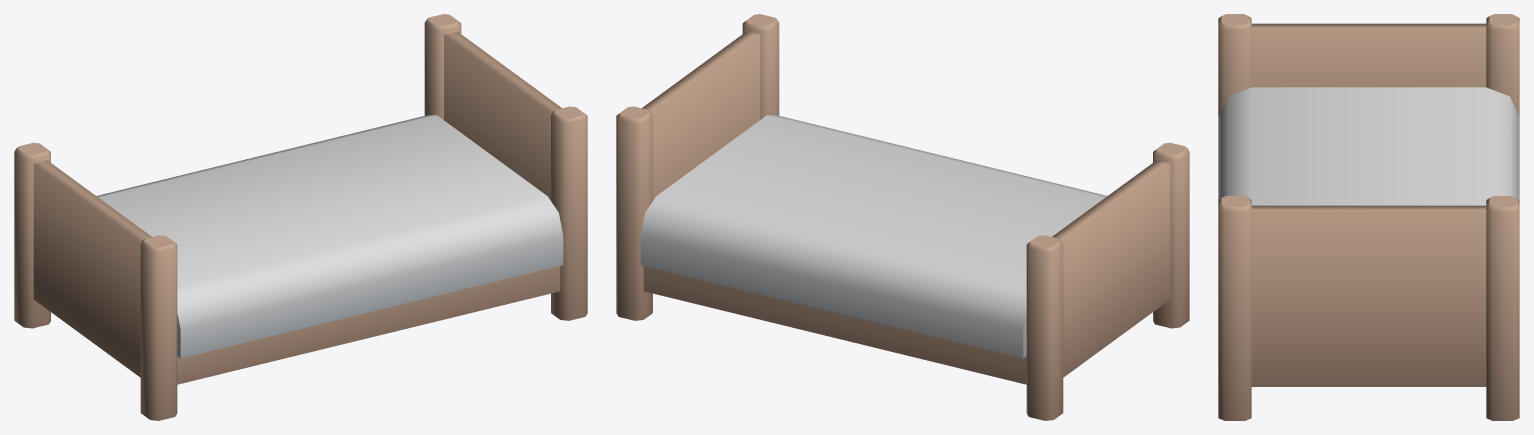
Rendered from bed-detail-single.glb.
3 renders of one model, left to right at view 1: azimuth 30°, elevation 25°; view 2: azimuth 150°, elevation 25°; view 3: azimuth 270°, elevation 25°, orthographic. The views are drawn at different scales.
Parts seen in each view (by area): view 1: bed-detail-single; view 2: bed-detail-single; view 3: bed-detail-single.
Boxes of the visible parts, bbox=[...] form: bed-detail-single: bbox=[14, 14, 587, 420]; bed-detail-single: bbox=[616, 14, 1189, 420]; bed-detail-single: bbox=[1218, 14, 1519, 420].
Size of the model in its own units: 1.6 by 0.7 by 0.9.
